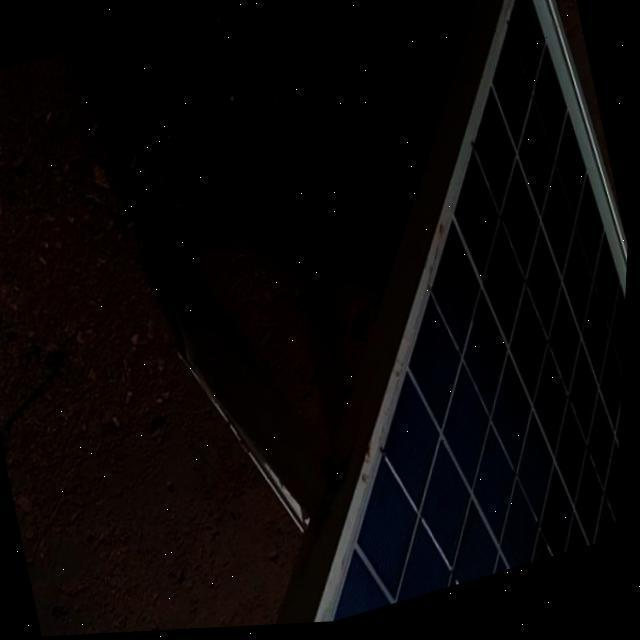Normal Solar Panel: (140, 0, 640, 633)
